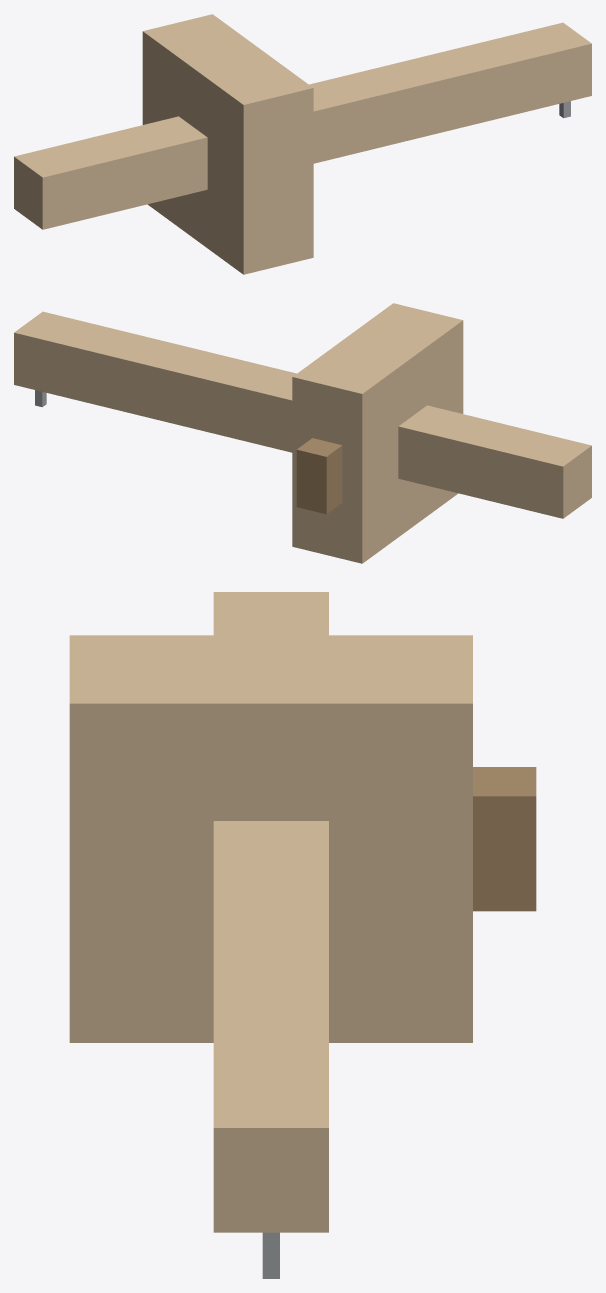
File: prop-marking-gauge.fbx
3 renders of one model, top to bottom at view 1: azimuth 30°, elevation 25°; view 2: azimuth 150°, elevation 25°; view 3: azimuth 270°, elevation 25°, orthographic. The views are drawn at different scales.
Visible parts, largest first — view 1: prop-marking-gauge; view 2: prop-marking-gauge; view 3: prop-marking-gauge.
Part boxes in pixels (x1=…): prop-marking-gauge: x1=14, y1=14, x2=591, y2=274; prop-marking-gauge: x1=14, y1=303, x2=591, y2=563; prop-marking-gauge: x1=69, y1=592, x2=536, y2=1278.
Bounding box in the file's own units: 22 × 6.5 × 8.1.
